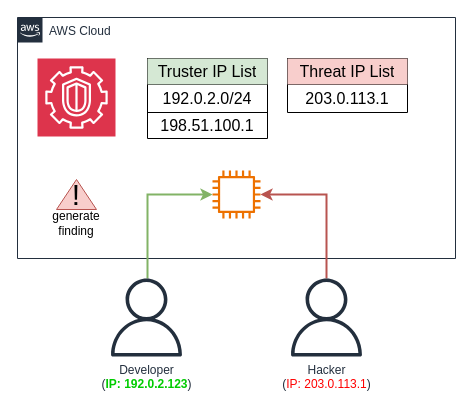
This 473x410 diagram has some shape labels left out. The centre of each missing label's shape, as x and y in pixels:
EC2 Instance (Web Server): the point at 236,194
GuardDuty: the point at 76,97
